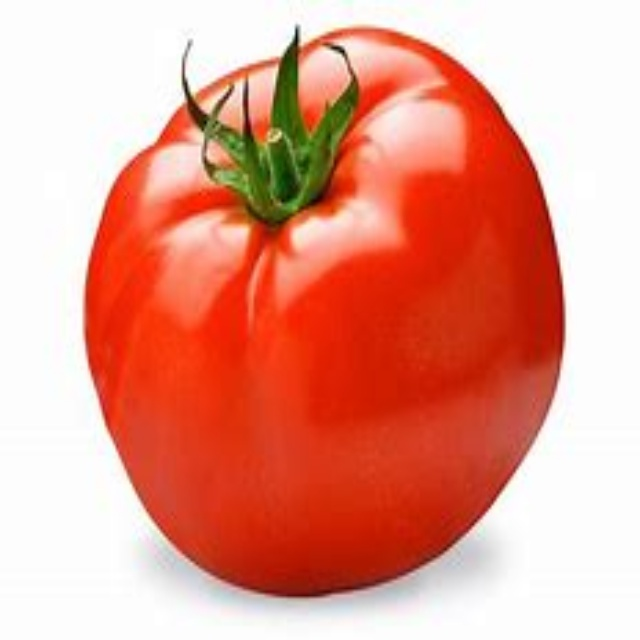tomato: (83, 27, 570, 601)
